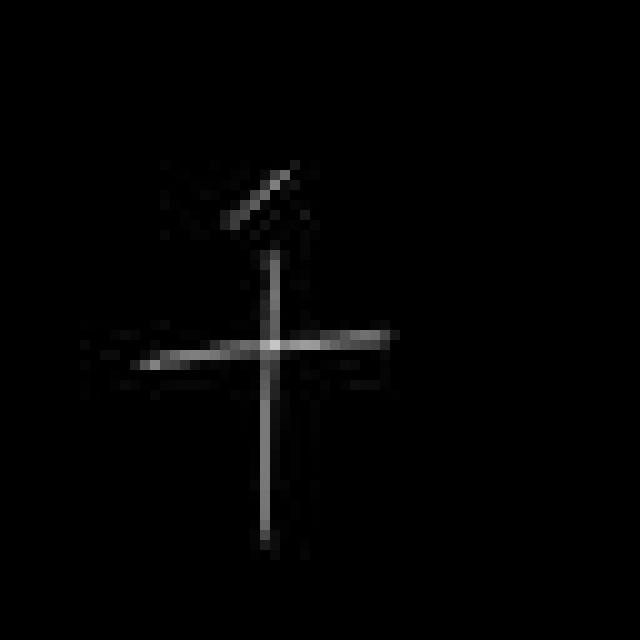1000 -a thousand-: (128, 143, 402, 553)
